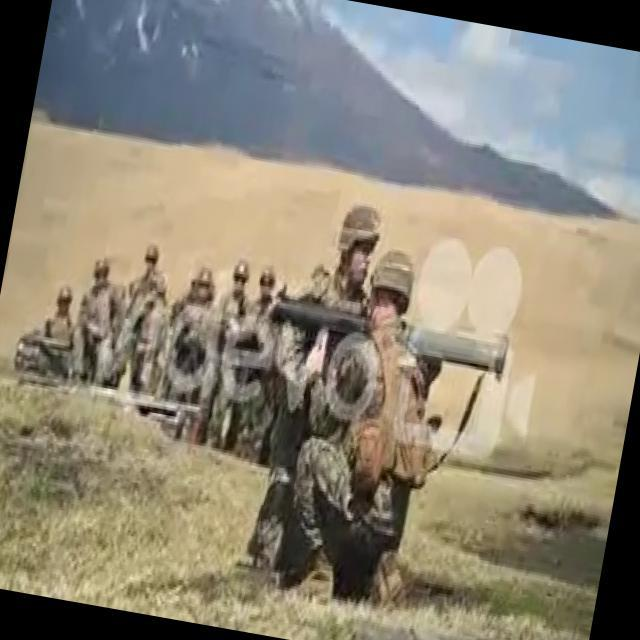rocket: (265, 290, 509, 379)
